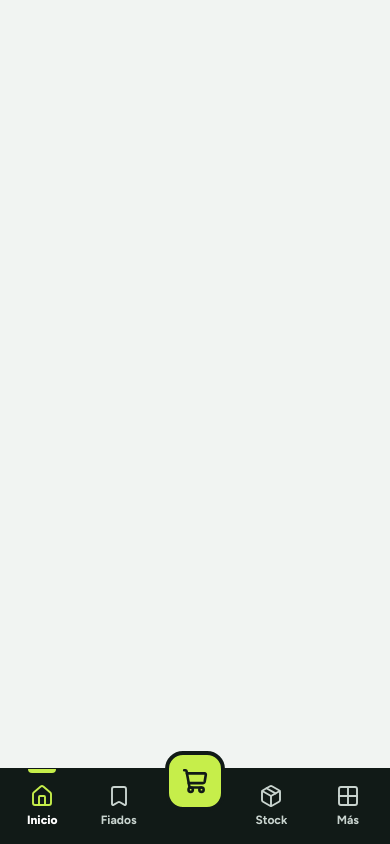
it: Cerrar sesión desde el menú › en el celu está dentro de "Más"
The image size is (390, 844).
Click the button "Más": (348, 806) [310,769,386,843]
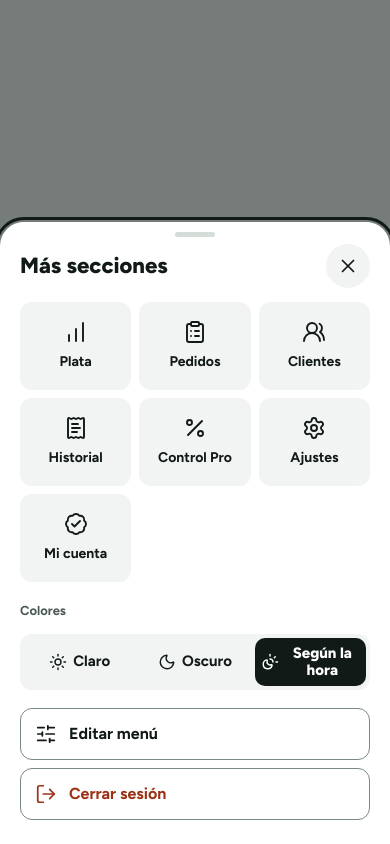
Expected: the button "Cerrar sesión" is shown, [20,768,370,820]
